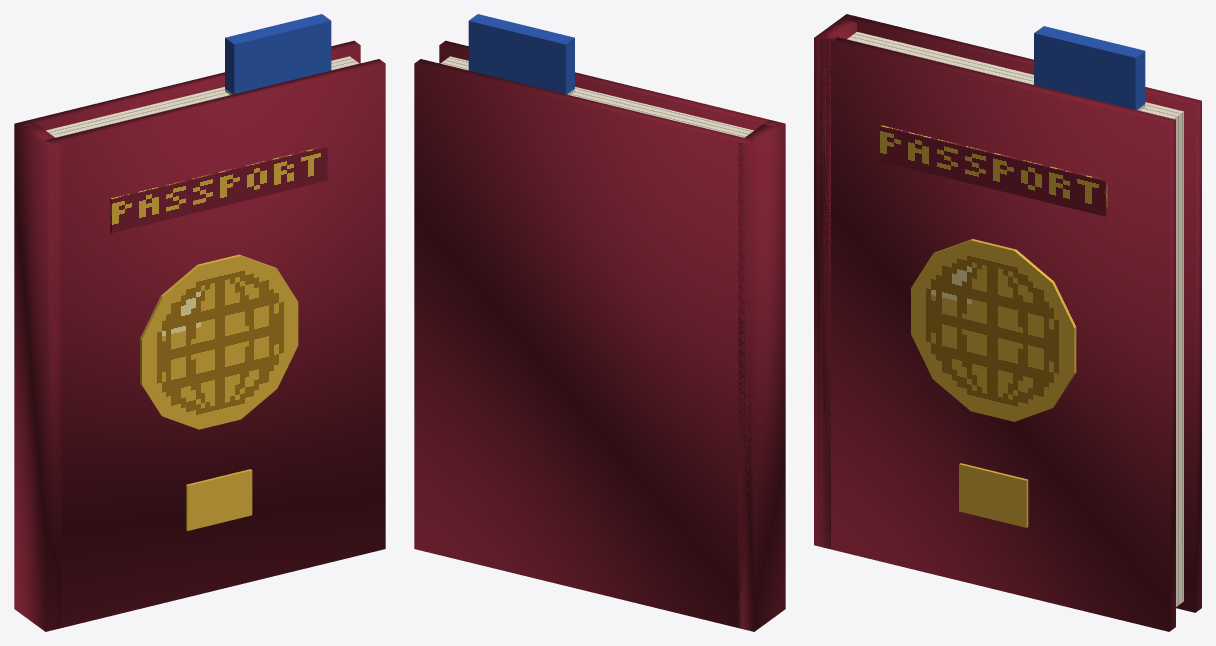
Rendered from outdoors-passport.glb.
The picture shows the model from 3 angles, left to right: view 1: azimuth 30°, elevation 25°; view 2: azimuth 150°, elevation 25°; view 3: azimuth 330°, elevation 25°; orthographic projection. The views are drawn at different scales.
Parts seen in each view (by area): view 1: outdoors.passport; view 2: outdoors.passport; view 3: outdoors.passport.
Part boxes in pixels (box(x1,y1,x2,y2)): outdoors.passport: box(14, 14, 385, 631); outdoors.passport: box(414, 14, 785, 631); outdoors.passport: box(814, 14, 1201, 631).
Bounding box in the file's own units: 1.11 × 1.65 × 0.1865.
Materials: 8 (6 with a texture image).
